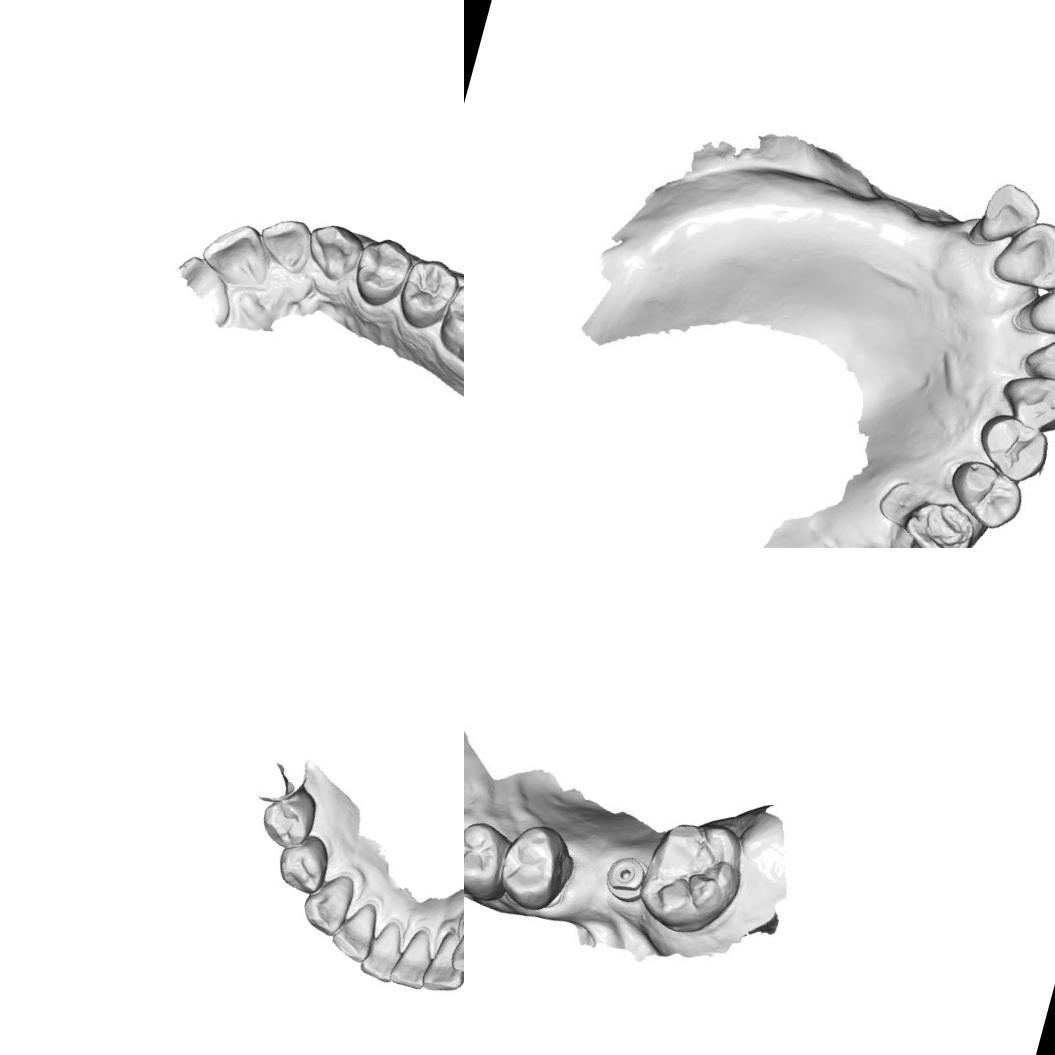canine: (298, 215, 370, 289), (296, 864, 358, 940), (992, 367, 1055, 439), (446, 904, 464, 980)
implant: (592, 842, 651, 906)
incisor: (196, 212, 280, 290), (988, 211, 1055, 298), (974, 176, 1046, 253), (253, 210, 319, 279), (326, 894, 384, 966), (356, 913, 408, 984), (386, 922, 438, 992), (418, 923, 464, 999), (1022, 252, 1055, 350), (1019, 322, 1055, 392)
molar: (635, 814, 752, 940), (431, 272, 464, 374)
premolar: (940, 454, 1030, 534), (496, 823, 575, 912), (970, 408, 1055, 488), (392, 252, 464, 336), (346, 231, 417, 312), (254, 778, 324, 855), (464, 815, 521, 903), (271, 827, 335, 900)
